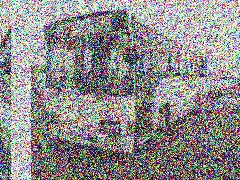bus: (43, 11, 208, 155)
